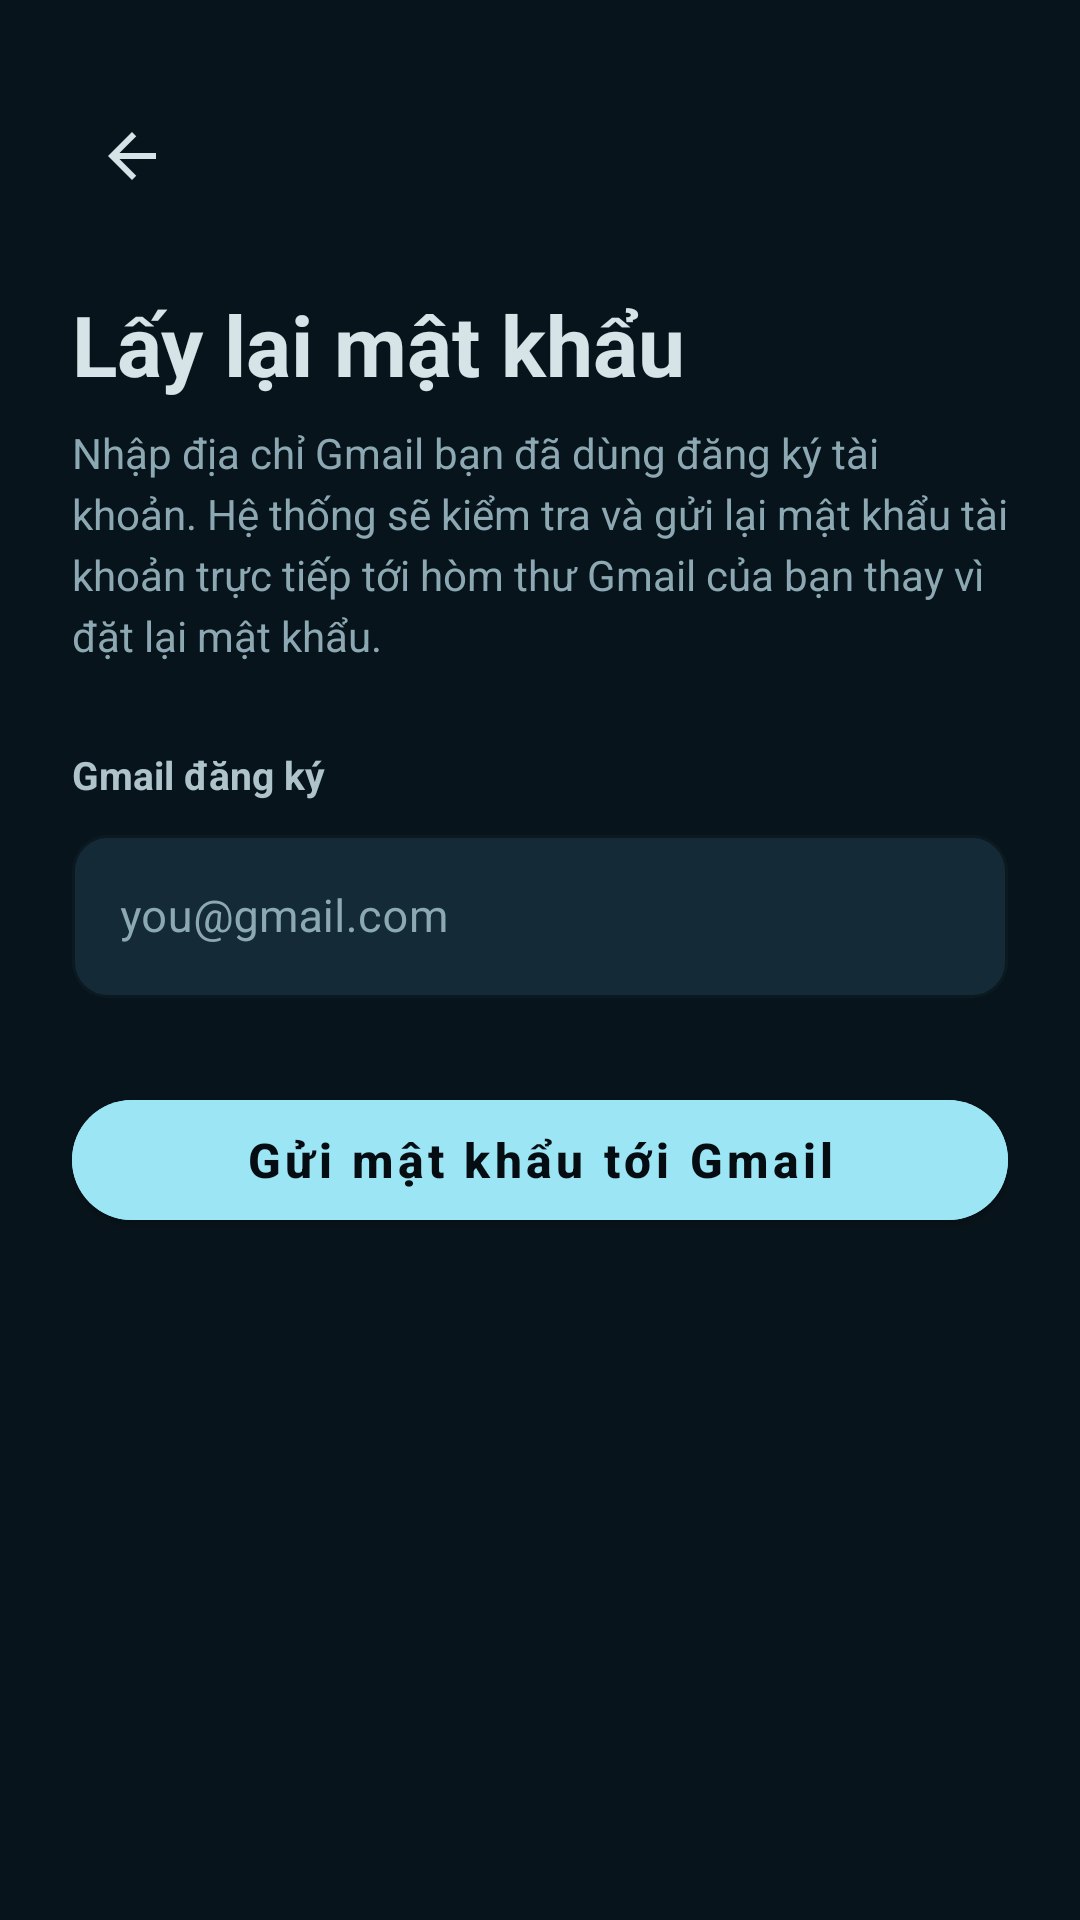

Named icons in this screenshot (1080w x 1920h) and their centers, point (x, y):
arrow back: point (132, 156)
